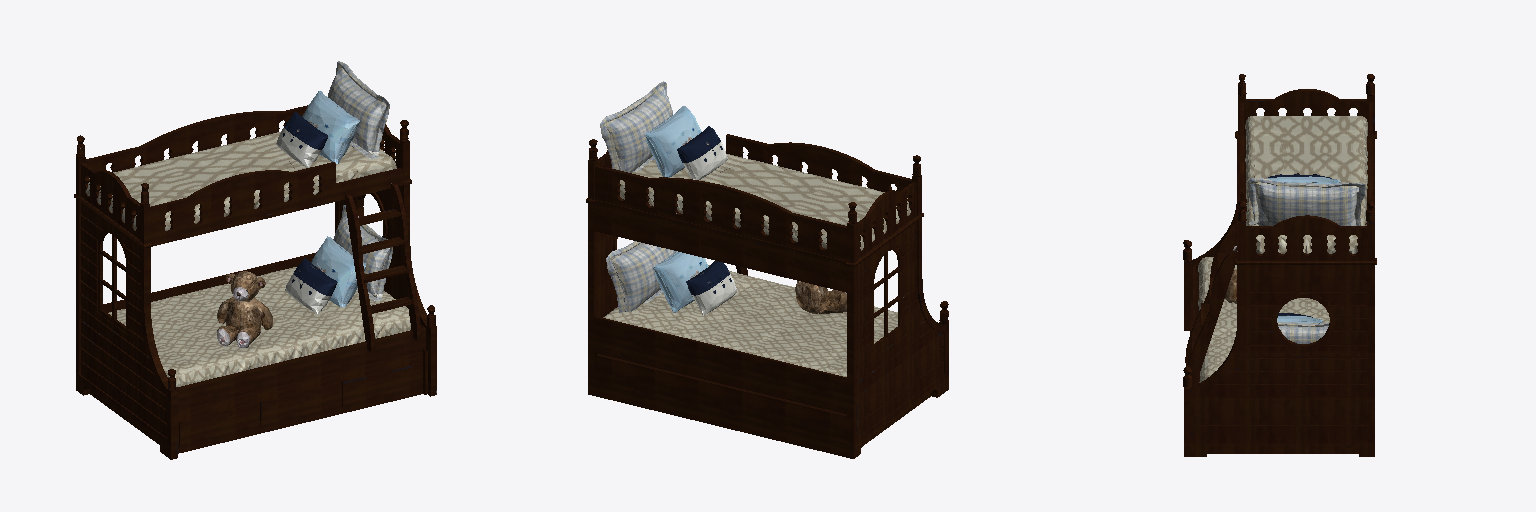
3 renders of one model, left to right at view 1: azimuth 30°, elevation 25°; view 2: azimuth 150°, elevation 25°; view 3: azimuth 270°, elevation 25°, orthographic.
Parts seen in each view (by area): view 1: solid_005, solid_004, solid_001, solid_003, solid_010, solid_006, solid_009; view 2: solid_005, solid_004, solid_001, solid_003, solid_006, solid_009, solid_010; view 3: solid_005, solid_004, solid_001, solid_003.
Boxes of the visible parts, x1=… form: solid_005: x1=74, y1=105, x2=436, y2=459; solid_004: x1=86, y1=132, x2=410, y2=386; solid_001: x1=328, y1=61, x2=392, y2=300; solid_003: x1=302, y1=91, x2=365, y2=306; solid_010: x1=217, y1=271, x2=272, y2=347; solid_006: x1=283, y1=112, x2=337, y2=295; solid_009: x1=276, y1=128, x2=330, y2=313; solid_005: x1=586, y1=134, x2=948, y2=458; solid_004: x1=603, y1=154, x2=910, y2=376; solid_001: x1=600, y1=81, x2=676, y2=312; solid_003: x1=645, y1=106, x2=708, y2=312; solid_006: x1=677, y1=126, x2=731, y2=295; solid_009: x1=683, y1=142, x2=737, y2=315; solid_010: x1=795, y1=281, x2=846, y2=313; solid_005: x1=1183, y1=74, x2=1376, y2=456; solid_004: x1=1198, y1=116, x2=1367, y2=382; solid_001: x1=1248, y1=178, x2=1366, y2=343; solid_003: x1=1267, y1=176, x2=1340, y2=322.
Size of the model in its own units: 1.36 by 1.32 by 0.852.
Materials: 1 (1 with a texture image).